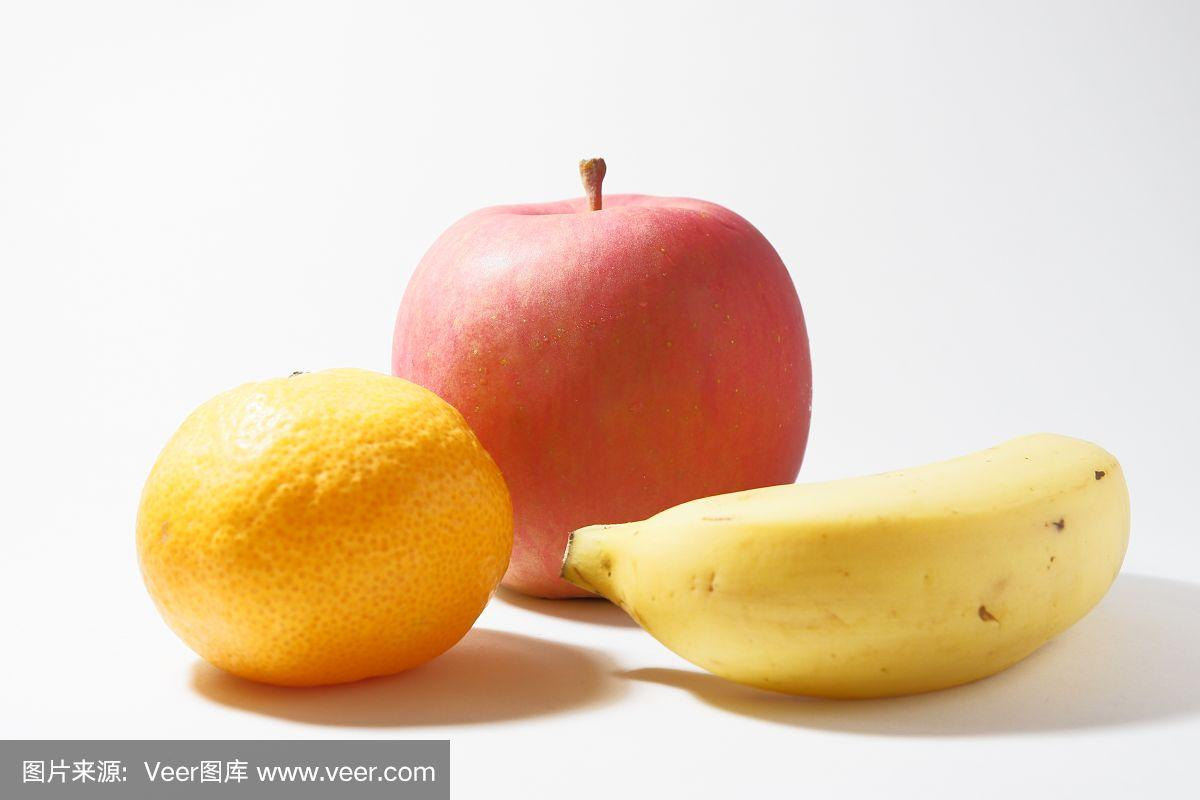apple: (390, 160, 811, 601)
banana: (561, 432, 1130, 700)
orange: (135, 371, 515, 685)
